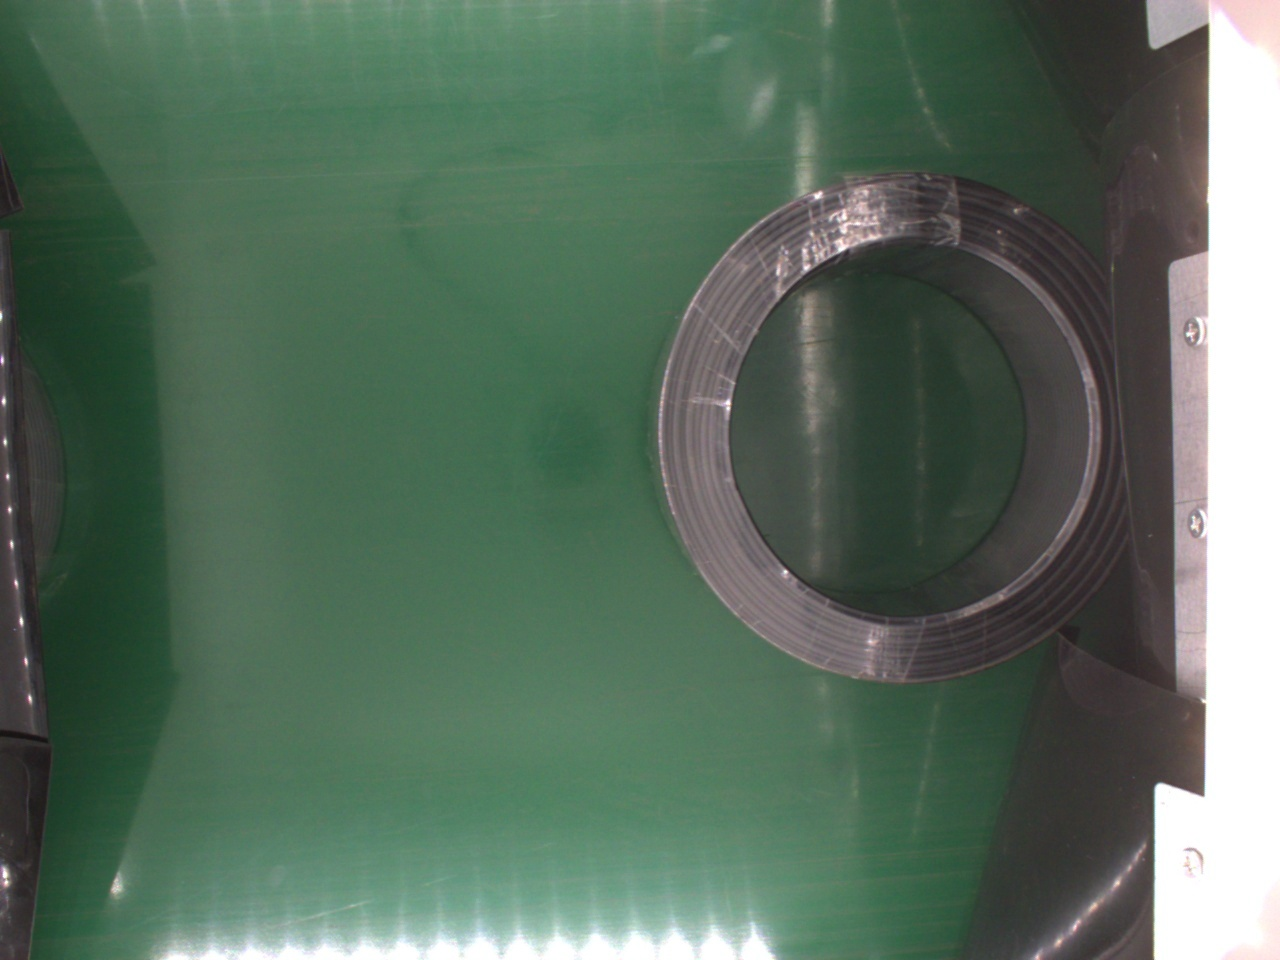black: (649, 169, 1124, 685)
